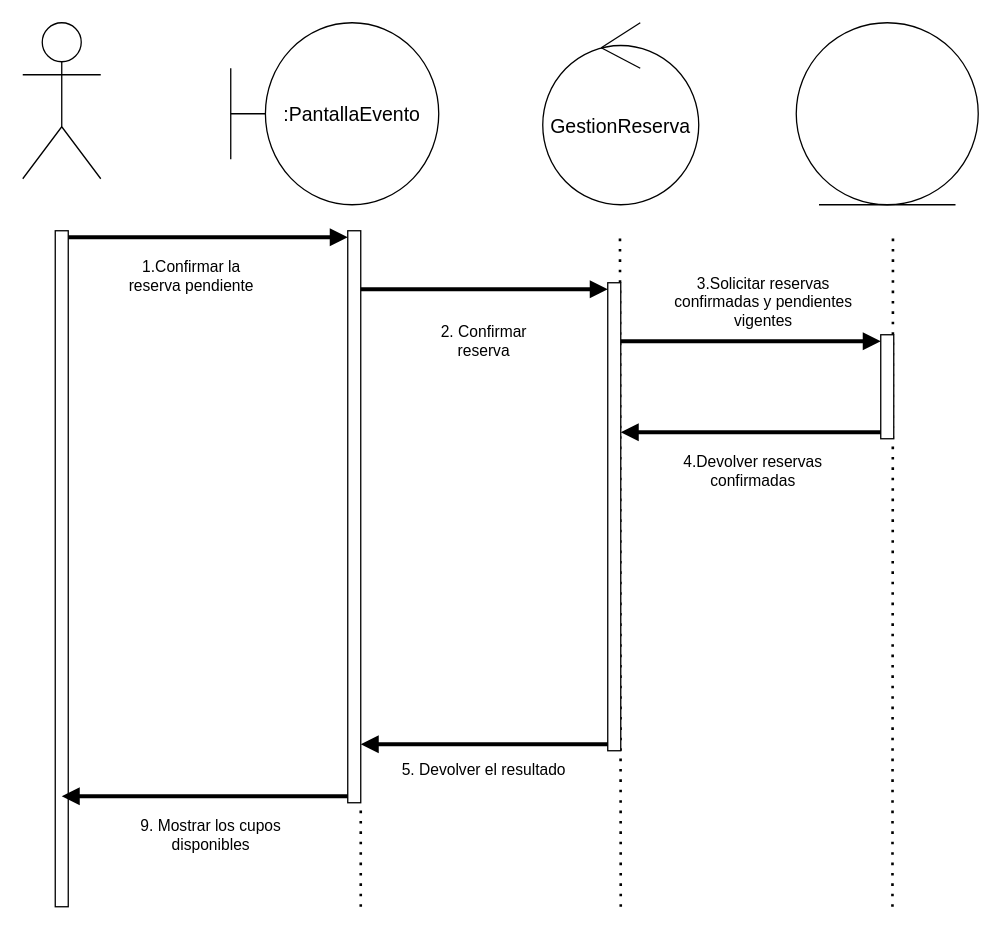
Image size: 1001x932. Some labels were removed from this diagram. Here are the shapes that lost their labels. From the top down, the centre of each, then its label:
the point at 61,100: Estudiante
the point at 886,113: :Reserva
